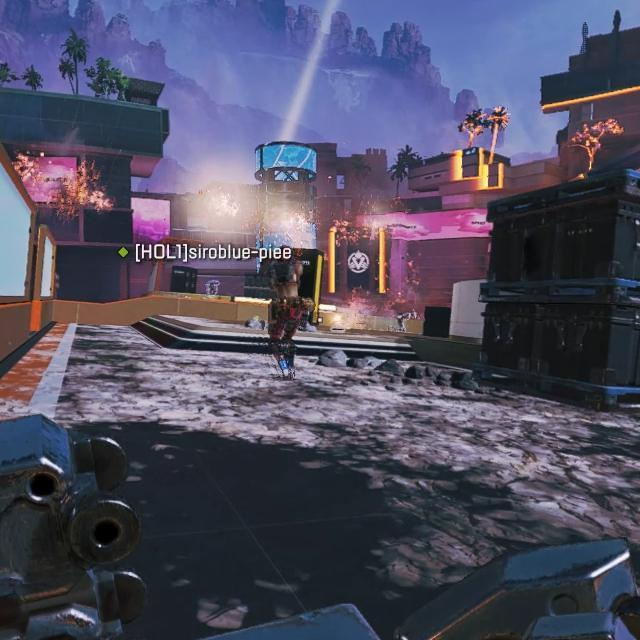avatar: (259, 244, 305, 383)
